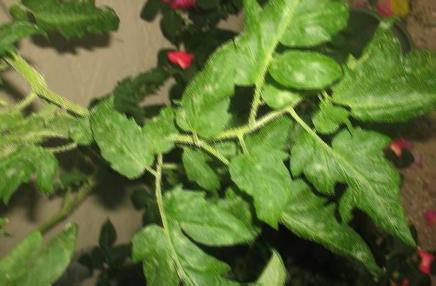Tomato mold leaf: (289, 119, 419, 251), (128, 189, 290, 286), (342, 23, 436, 123), (170, 40, 242, 137), (230, 0, 361, 53), (90, 101, 155, 182), (0, 226, 85, 286), (0, 144, 65, 210), (267, 50, 347, 99)
